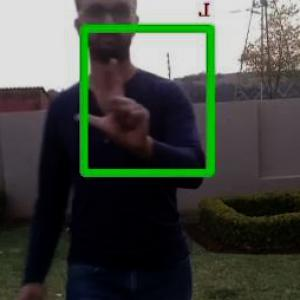land_hand: (67, 45, 161, 153)
